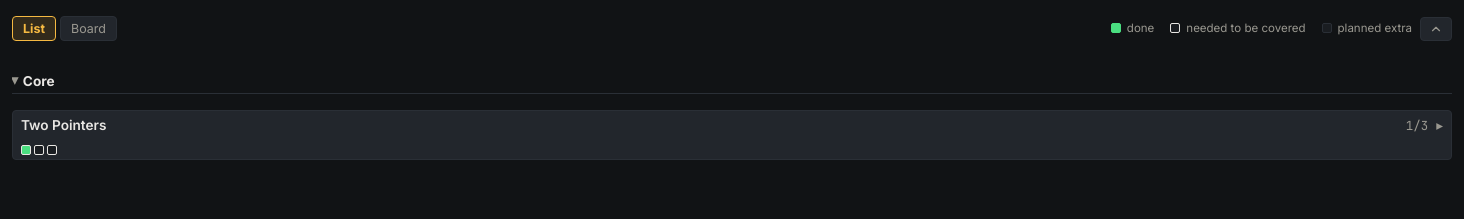
Scenario: TechniqueListComponent › shows "Loading problems…" when details is null (not yet fetched)
Click the button with class "tech-row__toggle". click: (64, 125)
box: [13,111,1451,159]
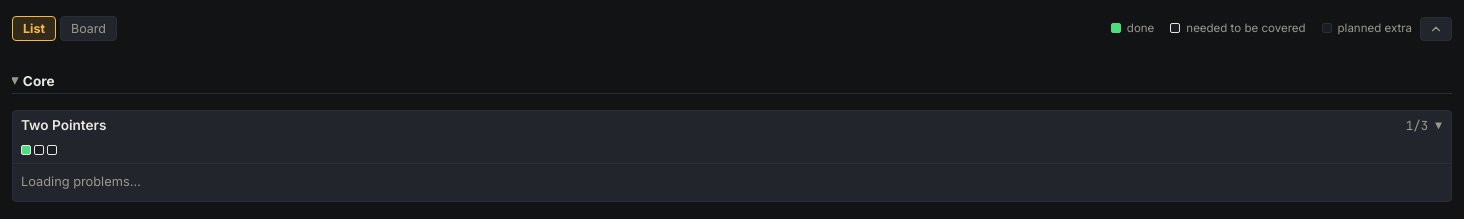
Check: the text "Loading problems…" is shown, box [21,174,141,189]
